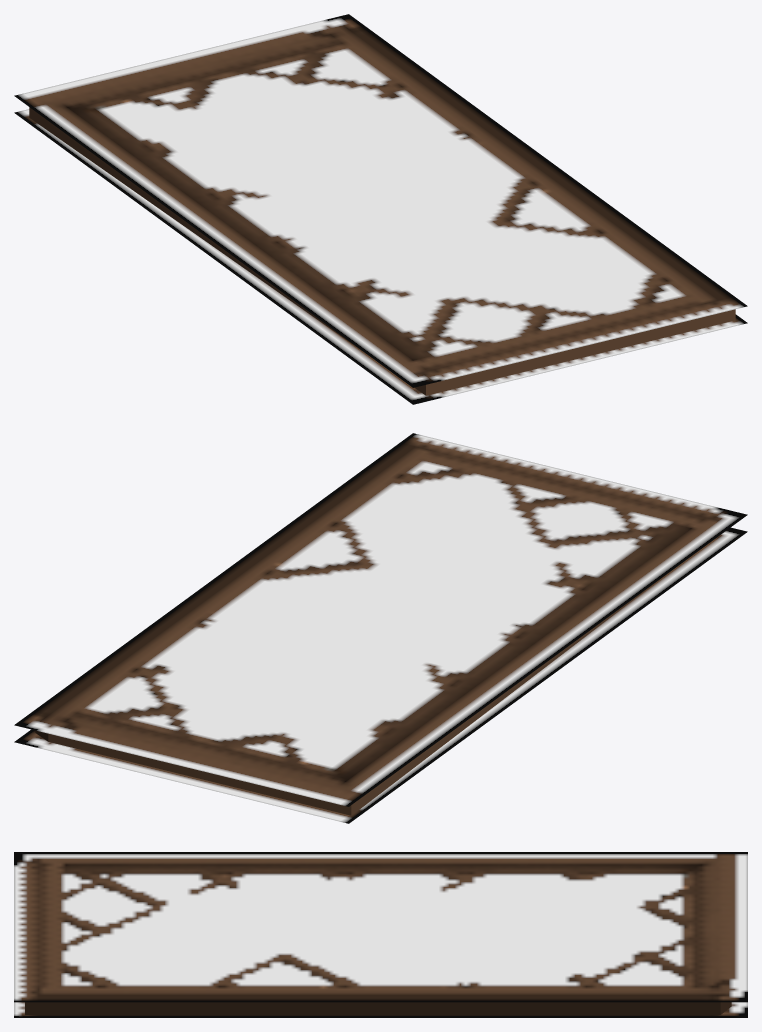
Rendered from pz_native_fixtures_windows_church_107_frame.obj.
3 renders of one model, top to bottom at view 1: azimuth 30°, elevation 25°; view 2: azimuth 150°, elevation 25°; view 3: azimuth 270°, elevation 25°, orthographic. The views are drawn at different scales.
Parts seen in each view (by area): view 1: pz_native_fixtures_windows_church_107_frame; view 2: pz_native_fixtures_windows_church_107_frame; view 3: pz_native_fixtures_windows_church_107_frame.
Boxes of the visible parts, x1,y1,x2,y2 form: pz_native_fixtures_windows_church_107_frame: (14,14,747,404); pz_native_fixtures_windows_church_107_frame: (14,433,747,823); pz_native_fixtures_windows_church_107_frame: (14,852,747,1017).
Size of the model in its own units: 0.8281 by 0.04 by 1.71.
Materials: 1 (1 with a texture image).
